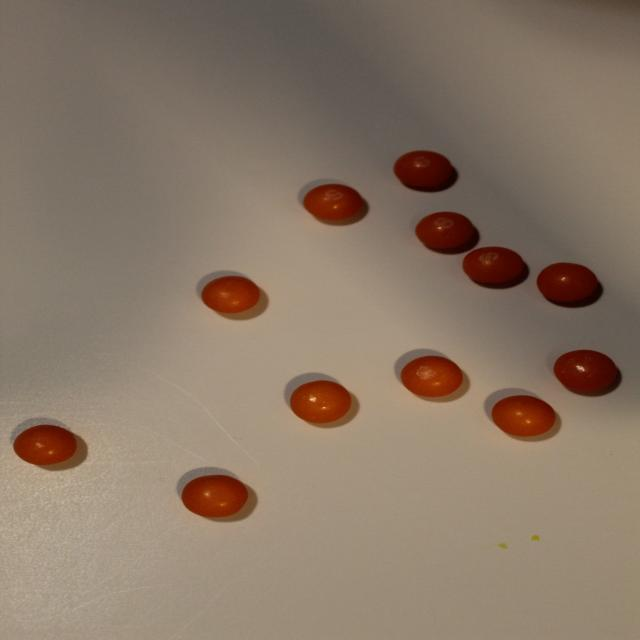smartie: (180, 475, 248, 518), (537, 262, 601, 305), (554, 350, 619, 392), (493, 395, 556, 438), (415, 211, 478, 253), (401, 356, 464, 398), (12, 425, 75, 467), (290, 381, 351, 424), (463, 246, 527, 286), (302, 183, 363, 220), (394, 150, 453, 187), (200, 276, 259, 313)
